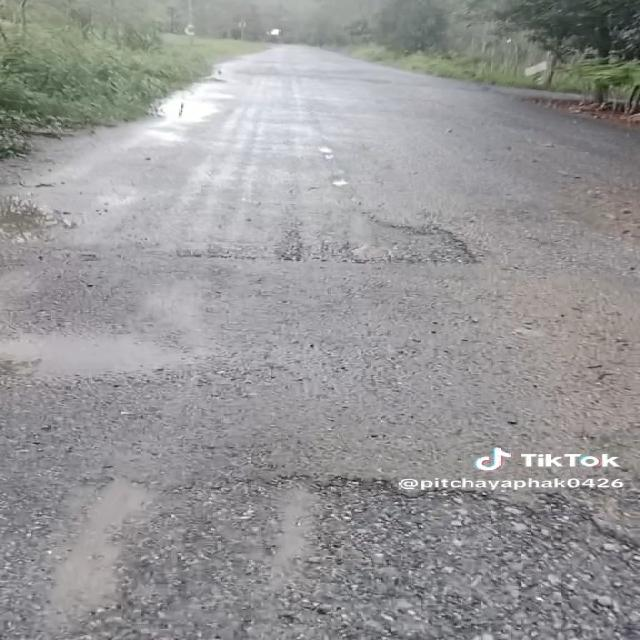Poth-hole: (170, 86, 278, 141)
